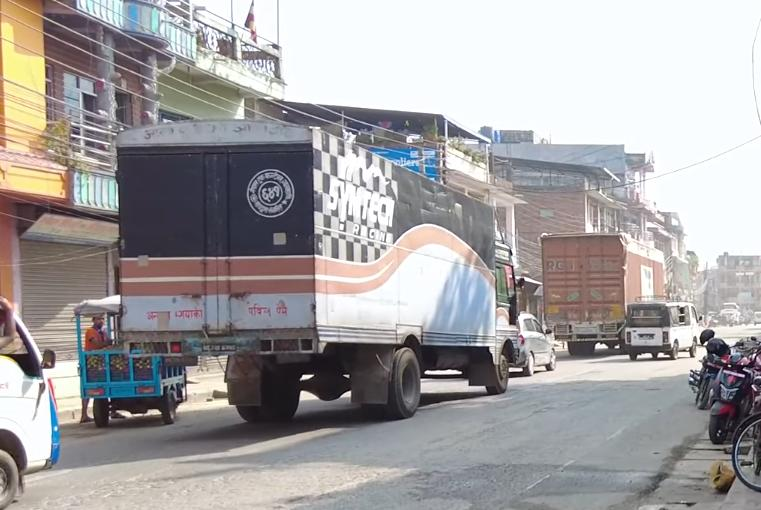car: (508, 311, 556, 376)
scooter: (701, 344, 761, 450)
truck: (111, 117, 520, 423), (538, 231, 666, 355)
